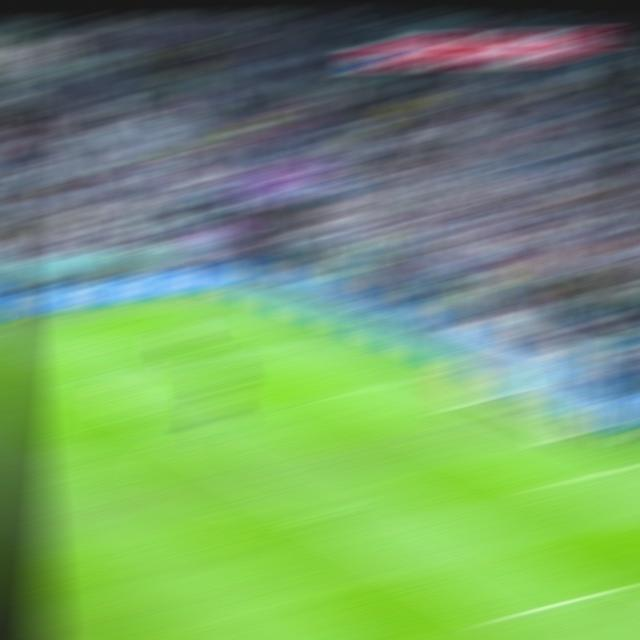bigarea_bottom_inner: (472, 606, 519, 630)
bigarea_top_inner: (59, 369, 102, 388)
bigarea_top_outter: (299, 331, 339, 347)
bottom_arc_area_intersection: (296, 505, 340, 524)
corner: (200, 293, 240, 305)
smallarea_bottom_inner: (521, 473, 567, 496)
smallarea_bottom_outter: (611, 455, 640, 474)
smallarea_top_inner: (320, 385, 361, 400)
smallarea_top_outter: (397, 370, 436, 385)
top_arc_area_intersection: (157, 423, 197, 442)
